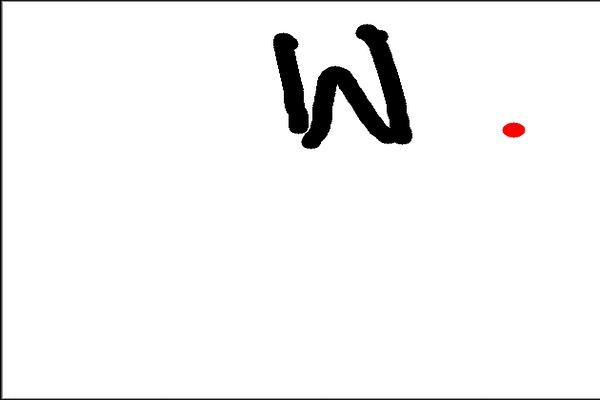w: (255, 17, 428, 171)
